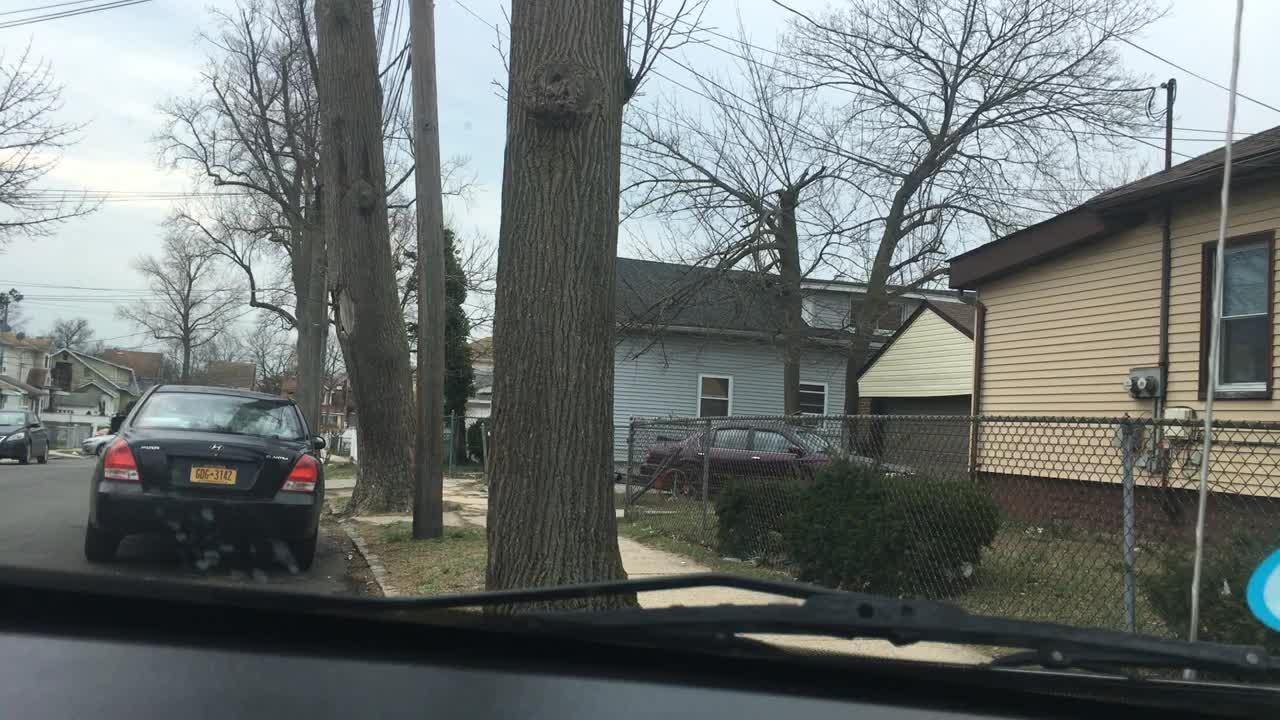Hyundai: (207, 435, 226, 454)
